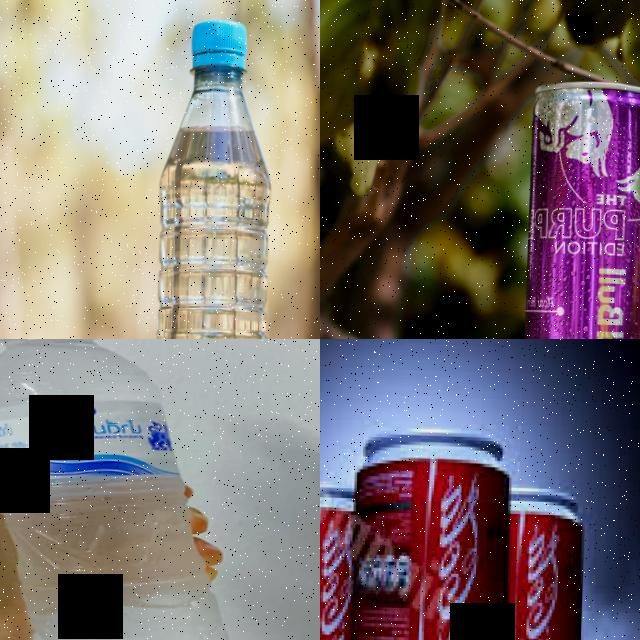bottle: (0, 339, 263, 640), (146, 18, 282, 339)
can: (341, 424, 515, 640), (513, 76, 640, 339), (500, 482, 586, 640)
